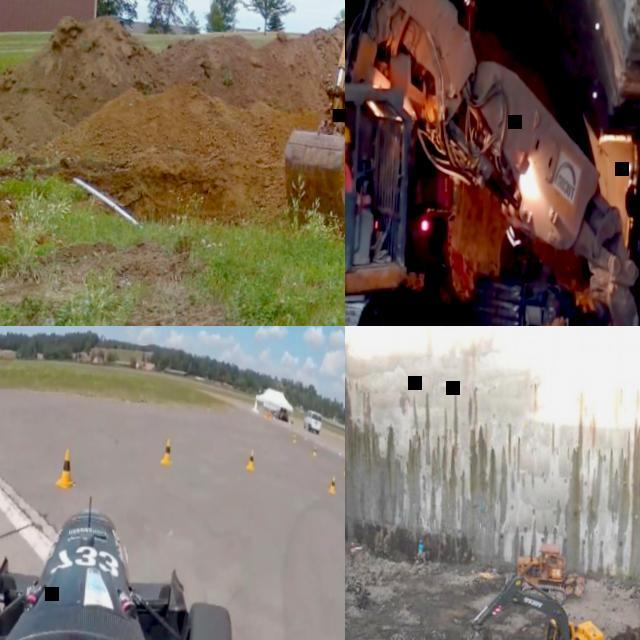helmet: (345, 124, 351, 143), (419, 538, 423, 542)
vest: (345, 150, 353, 190), (418, 544, 424, 554)
